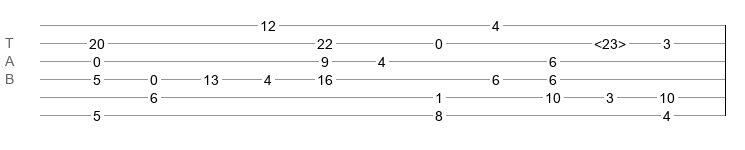0: (93, 54, 101, 64), (150, 72, 158, 82), (435, 36, 443, 46)
1: (435, 90, 443, 100)
10: (545, 90, 561, 100), (659, 90, 675, 100)
12: (260, 18, 276, 28)
13: (203, 72, 219, 82)
16: (317, 72, 333, 82)
20: (89, 36, 105, 46)
22: (317, 36, 333, 46)
3: (606, 90, 614, 100), (663, 36, 671, 46)
4: (264, 72, 272, 82), (378, 54, 386, 64), (492, 18, 500, 28), (663, 108, 671, 118)
5: (93, 108, 101, 118), (93, 72, 101, 82)
6: (150, 90, 158, 100), (492, 72, 500, 82), (549, 72, 557, 82), (549, 54, 557, 64)
8: (435, 108, 443, 118)
9: (321, 54, 329, 64)
harmonic: (594, 36, 626, 46)
